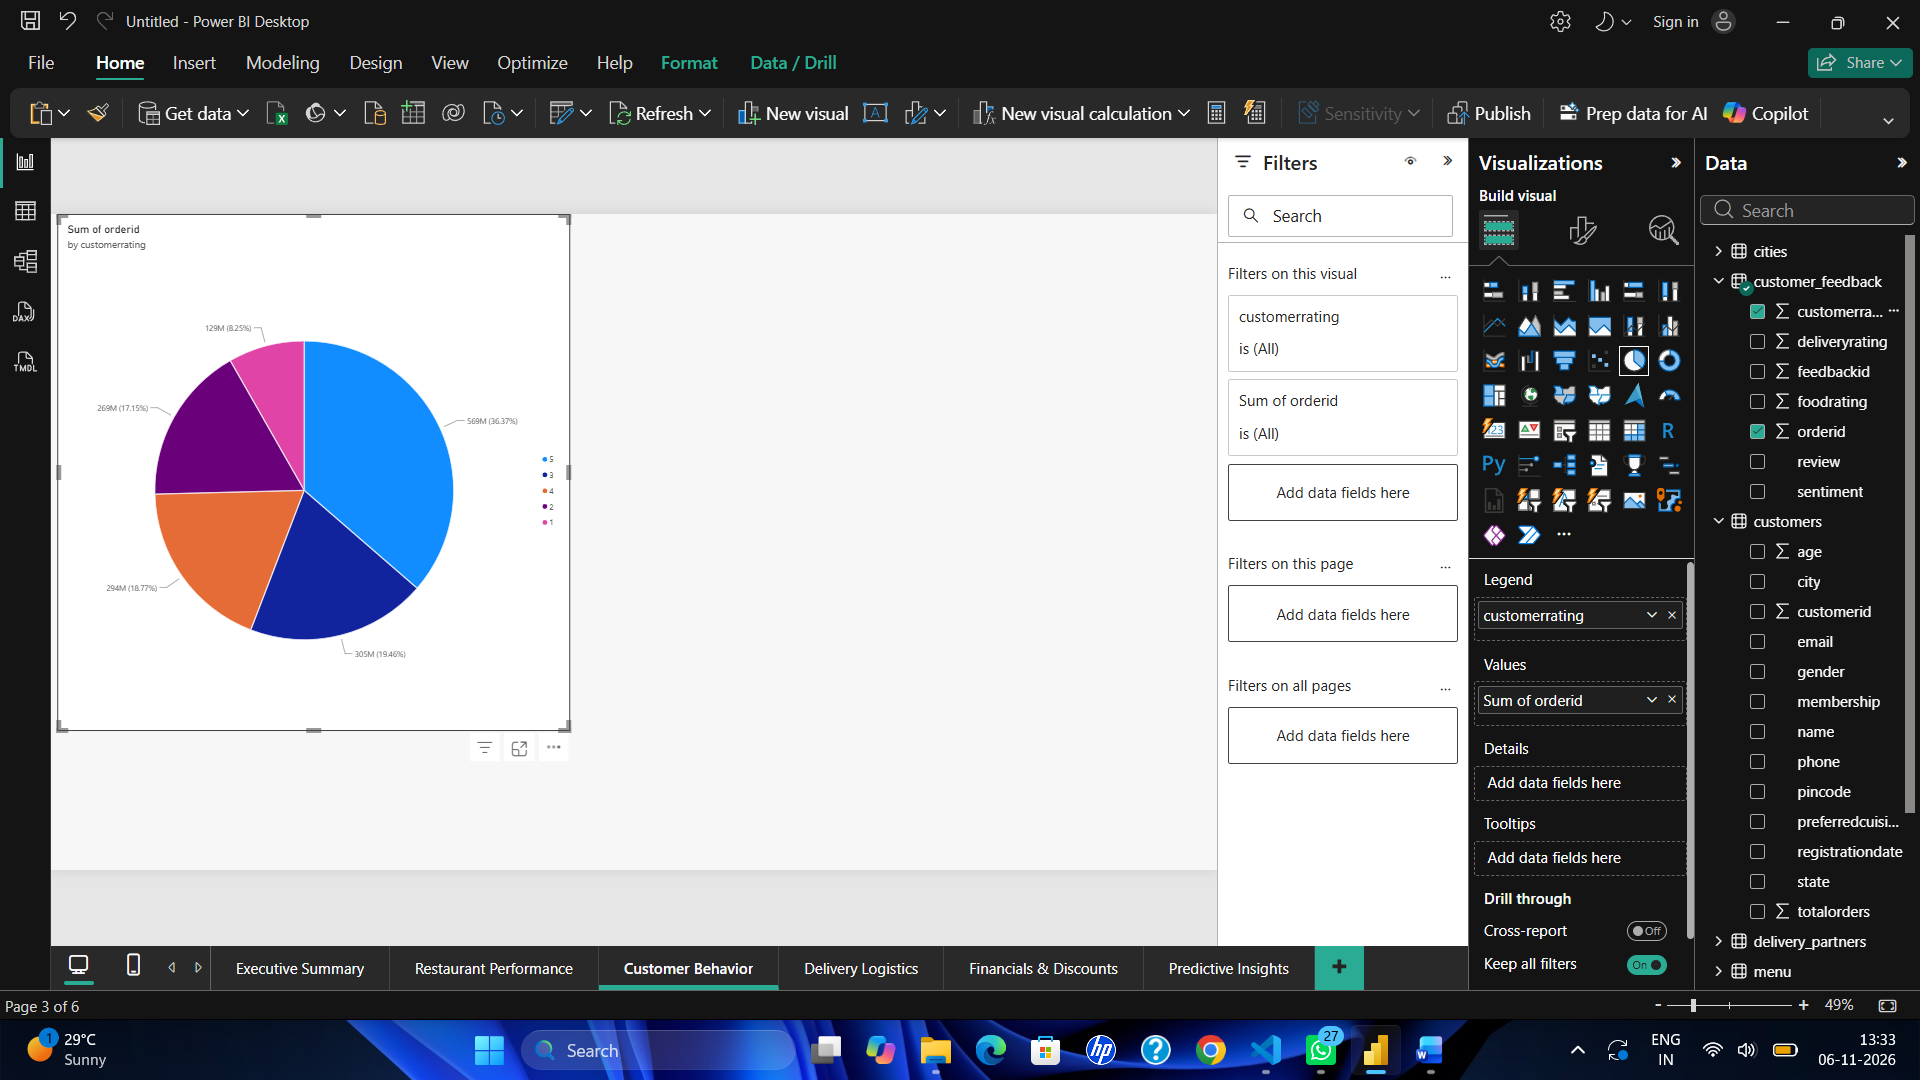

Layout of this report page (visuals, bound fields, positions):
{"tool":"powerbi","page":{"name":"Customer Behavior","canvas":[1920,1080],"ordinal":2},"visuals":[{"type":"pieChart","fields":{"Category":["customer_feedback.customerrating"],"Y":["Sum(customer_feedback.orderid)"]},"box":[10.3,0,843.9,852.1],"z":0}]}

Visuals, with their boxes on the page's 1920x1080 design canvas (x1, y1, x2, y2). These are canvas units, not pixel positions in the 1920x1080 screenshot, which may show the page scaled, cropped or inside an application window:
pieChart - customer_feedback.customerrating x Sum(customer_feedback.orderid): bbox=(10, 0, 854, 852)
